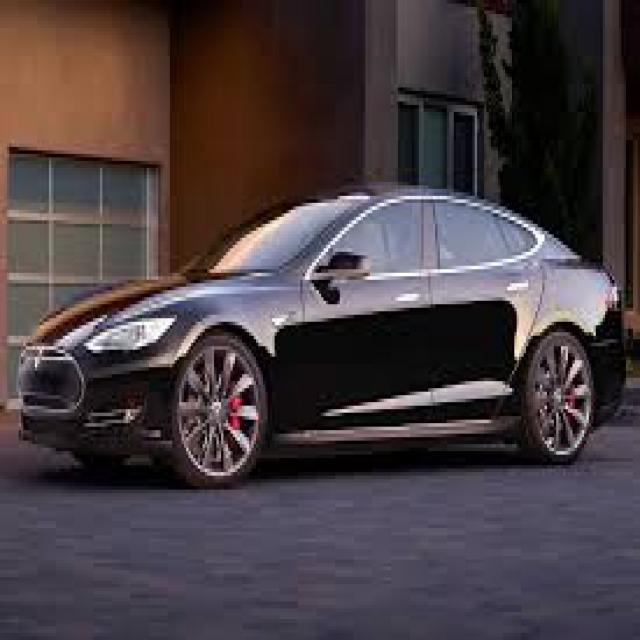Car: (11, 182, 626, 502)
